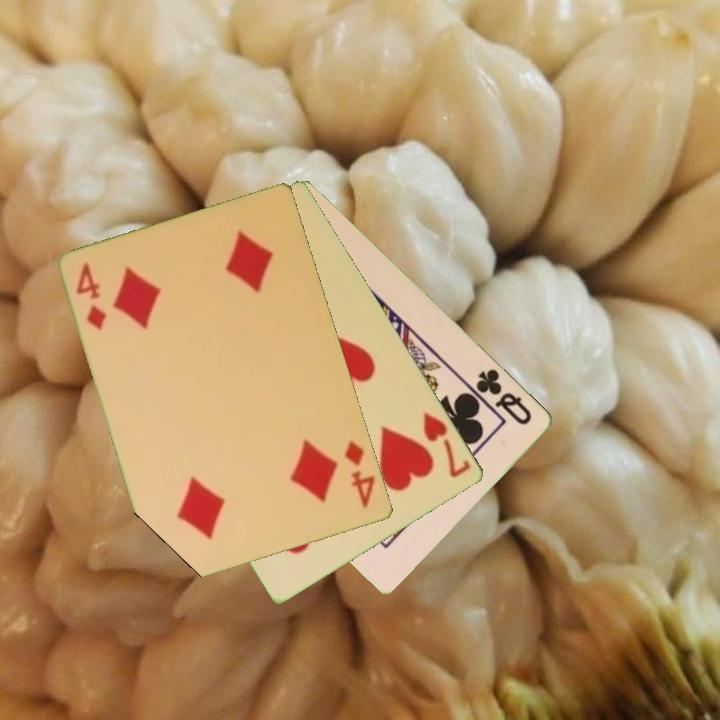4d: (341, 436, 379, 512), (73, 259, 110, 333)
7h: (420, 408, 475, 481)
Qc: (473, 365, 536, 428)
